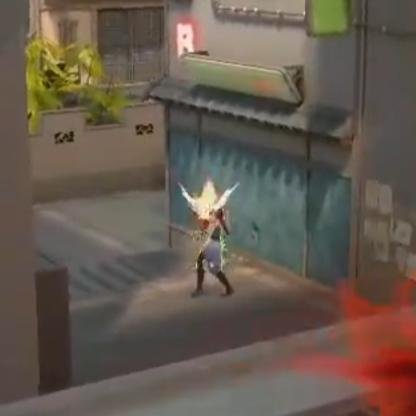enemyHead: (196, 189, 237, 227)
